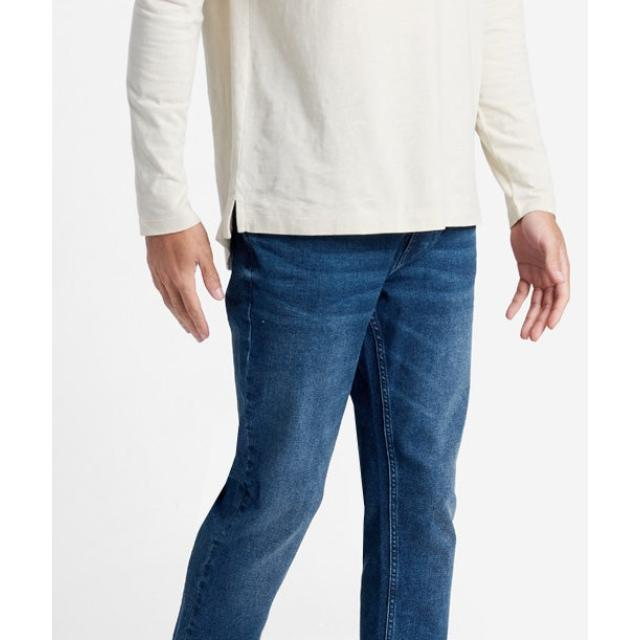denim: (148, 240, 478, 640)
